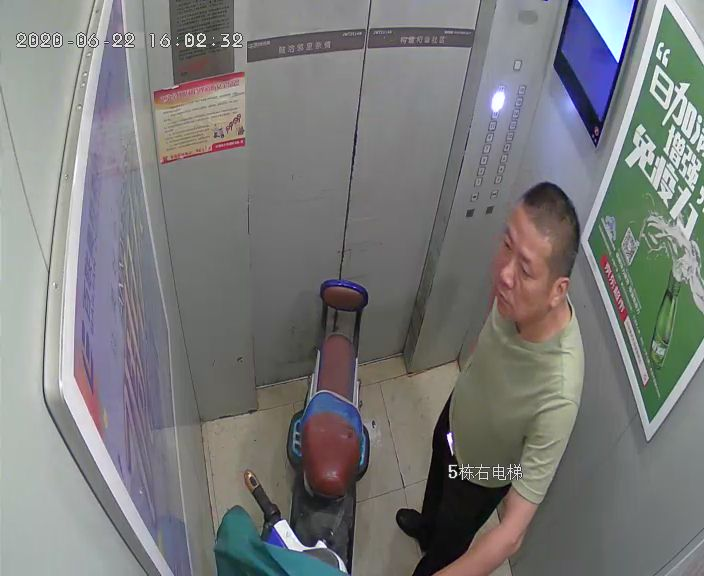Electric-bicycle: (244, 276, 371, 575)
